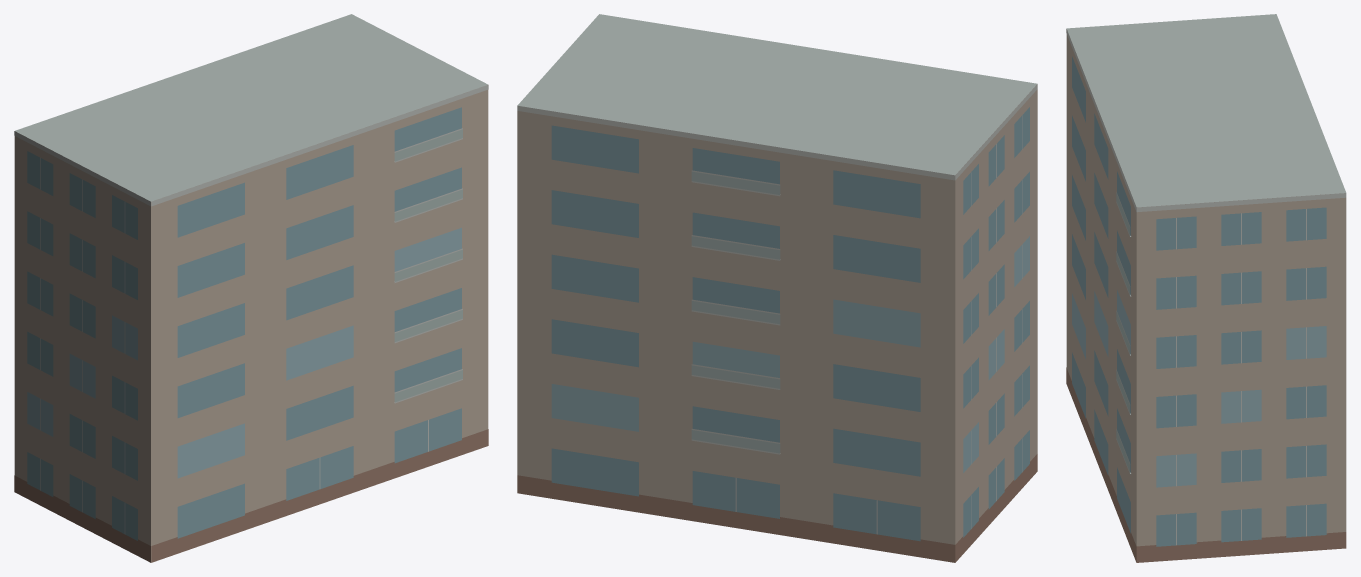
The model's file is survey-upis-32909652.glb.
3 renders of one model, left to right at view 1: azimuth 30°, elevation 25°; view 2: azimuth 150°, elevation 25°; view 3: azimuth 270°, elevation 25°, orthographic. The views are drawn at different scales.
Parts seen in each view (by area): view 1: survey-upis-32909652.tmp; view 2: survey-upis-32909652.tmp; view 3: survey-upis-32909652.tmp.
Boxes of the visible parts, <box> form: survey-upis-32909652.tmp: <box>14,14,488,562</box>; survey-upis-32909652.tmp: <box>517,14,1037,562</box>; survey-upis-32909652.tmp: <box>1066,14,1346,562</box>.
Bounding box in the file's own units: 21.37 × 18.3 × 13.07.
